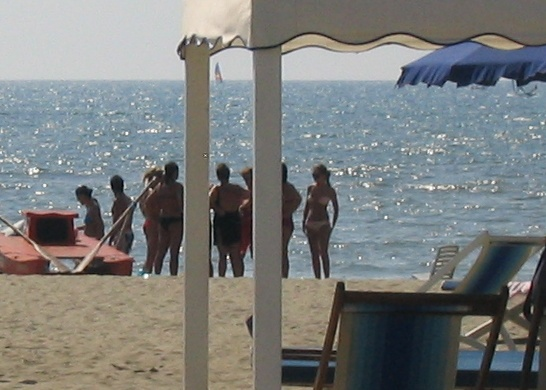person: (302, 161, 341, 279)
